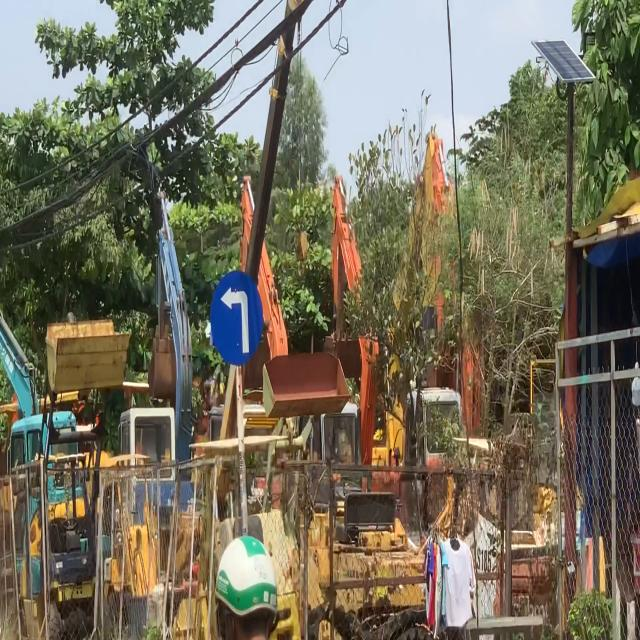Re trai: (210, 270, 262, 365)
